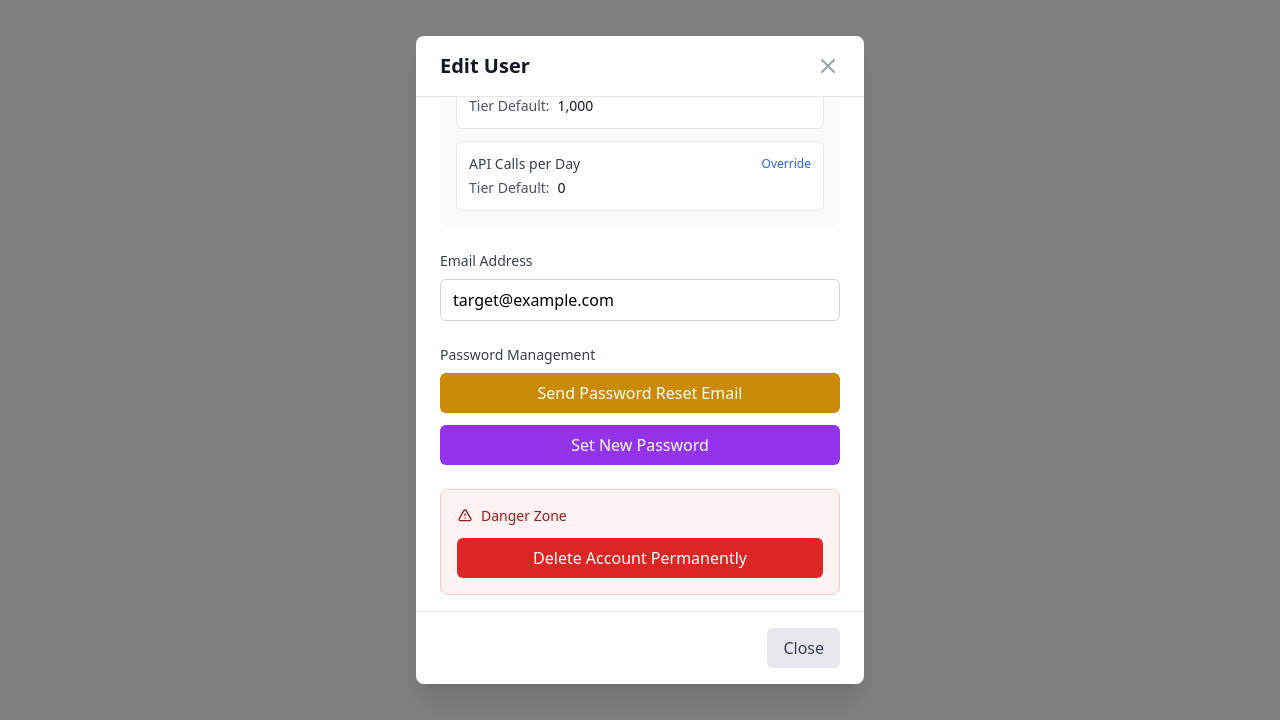
Test: Property-Based Test: Email Confirmation › Property 2: Email Confirmation Enables Delete › should enable confirm button when email matches exactly
The width and height of the screenshot is (1280, 720).
(page scrolled)
Click the button with test id "delete-account-button".
click(640, 558)  # box [457,538,823,578]
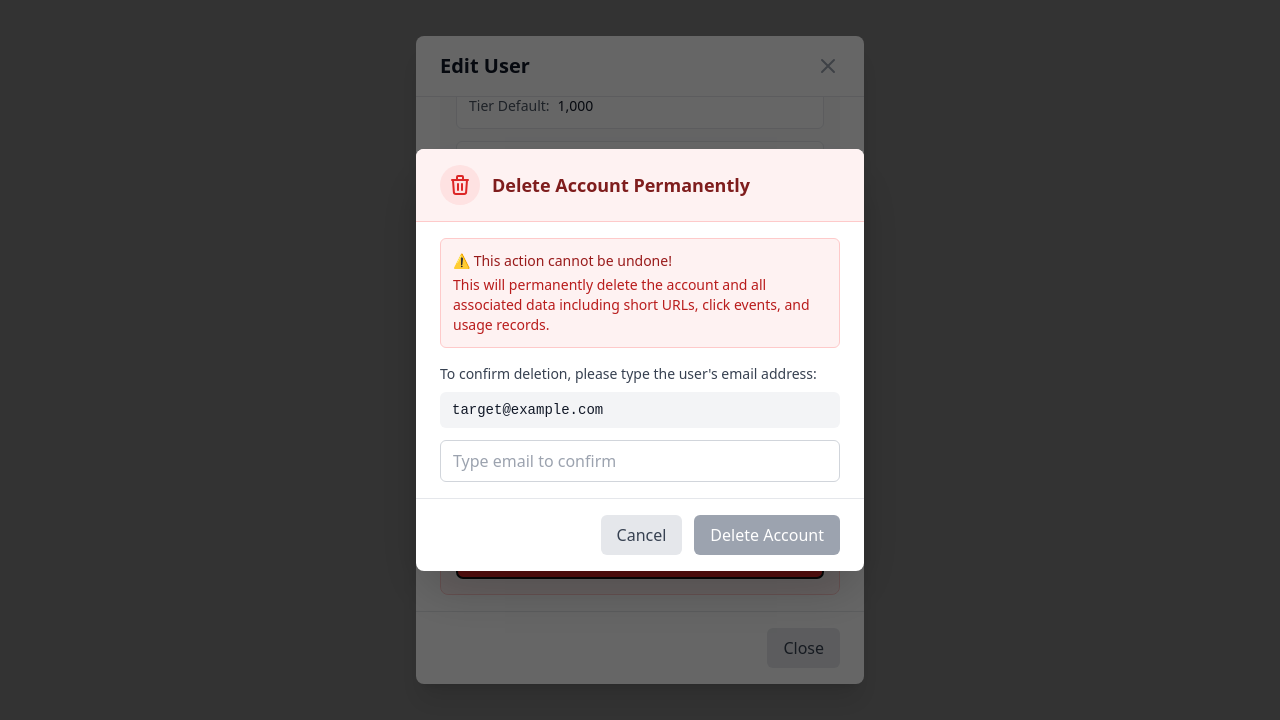
Check: the field with test id "delete-email-input" is shown
Note: Type the matching email
Type "target@example.com" into the field with test id "delete-email-input".
click(640, 461); type("target@example.com")  # box [440,440,840,482]
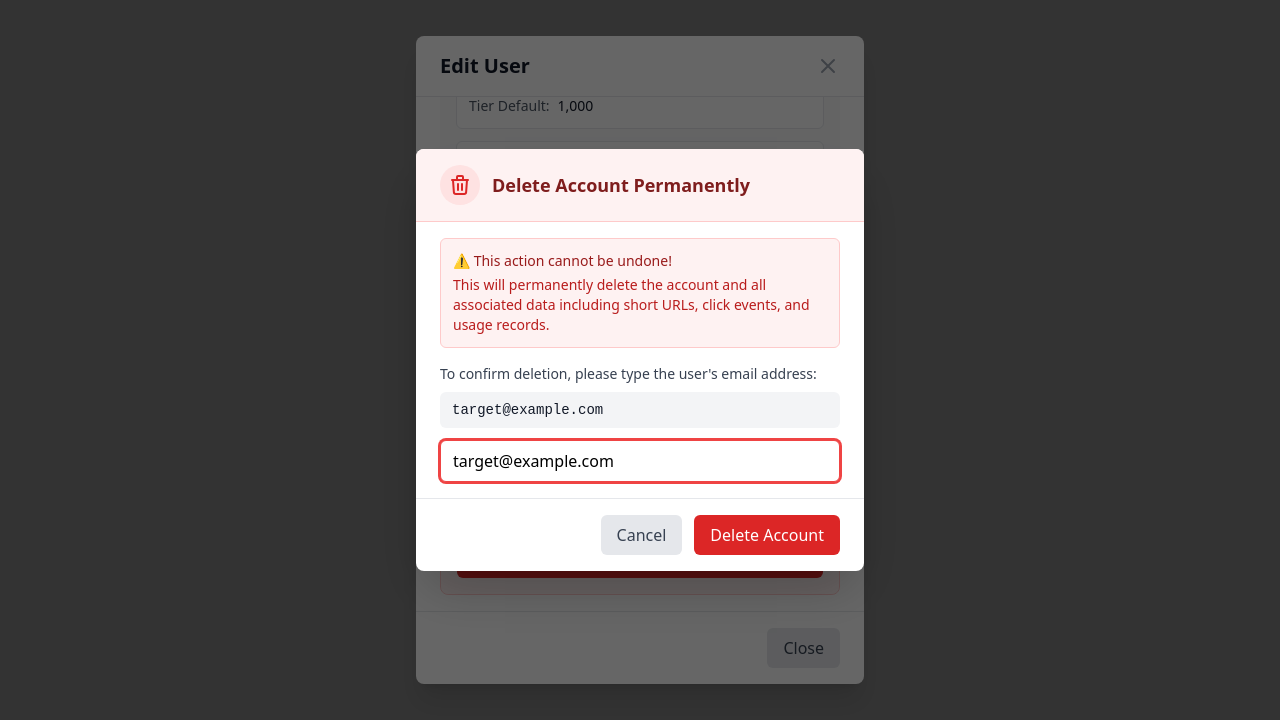
Check: the button with test id "delete-confirm-button" is enabled, box [694,515,840,555]
